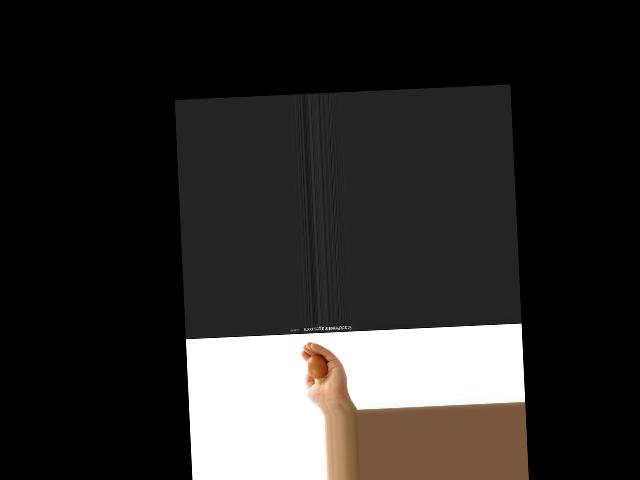egg: (306, 352, 327, 379)
